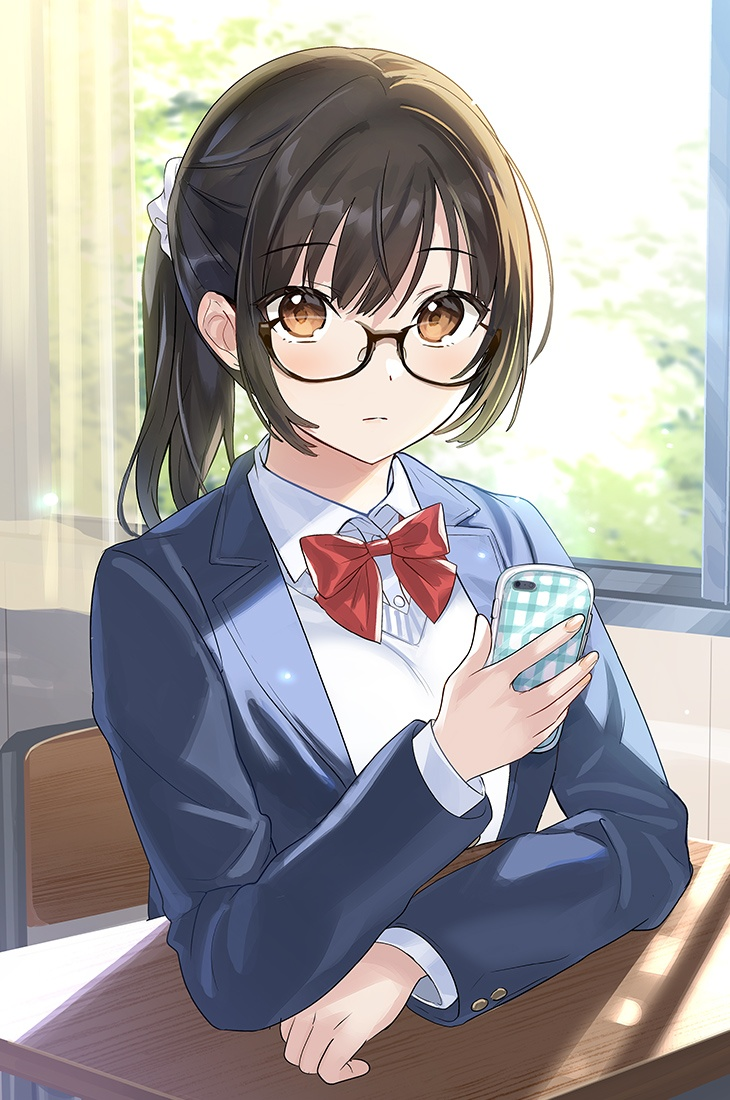纸片人正脸: (163, 46, 541, 473)
